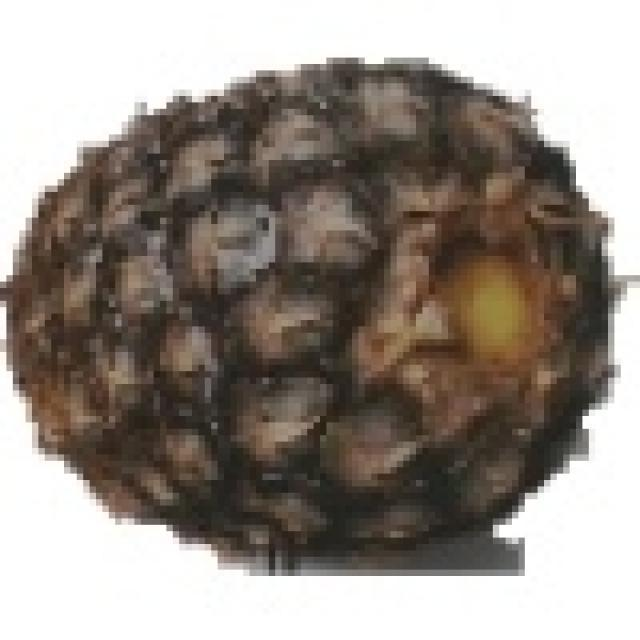pineapple: (0, 51, 595, 550)
